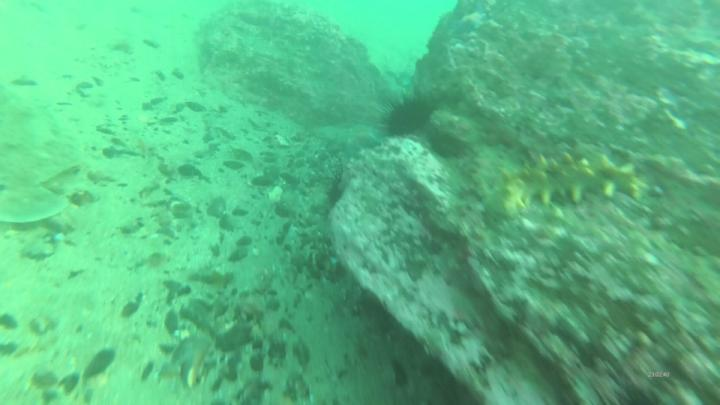echinus: (390, 101, 432, 135), (431, 131, 467, 162)
holothurian: (500, 154, 645, 213)
starfish: (344, 125, 383, 154)
